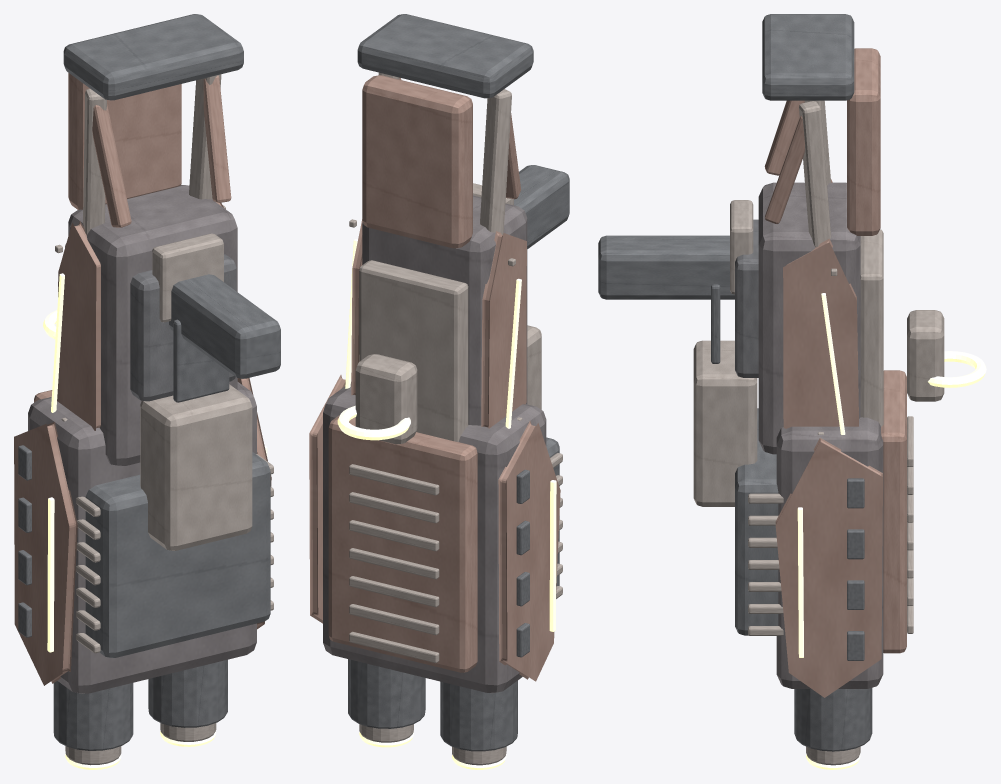
File: aether-w12-glacier.glb
3 views of the same model, side by side, from view 1: azimuth 30°, elevation 25°; view 2: azimuth 150°, elevation 25°; view 3: azimuth 270°, elevation 25° (orthographic). The views are drawn at different scales.
Visible parts, largest first — view 1: W12 / broad rugged pump sleeve, W12 / underbody plasma unit, 01 / central monocoque, W12 / heavy armor shroud, W12 / aggressive twin cheek armor -1, W12 / thick recoil pad art, W12 / rear shoulder crown, 04 / pistol grip, 06 / sculpted receiver cheek-1, 03 / matte lower receiver, W12 / twin front port -1, W12 / twin front port 1 (+10 smaller); view 2: W12 / heatshield upper armor, W12 / rear shoulder crown, 02 / receiver crown, W12 / heavy armor shroud, W12 / aggressive twin cheek armor -1, W12 / thick recoil pad art, 01 / central monocoque, 06 / sculpted receiver cheek-1, W12 / twin front port -1, W12 / chunky sight, W12 / twin front port 1, W12 / stock side truss -1 (+18 smaller); view 3: W12 / aggressive twin cheek armor 1, 06 / sculpted receiver cheek1, 01 / central monocoque, W12 / underbody plasma unit, 04 / pistol grip, W12 / thick recoil pad art, W12 / heatshield upper armor, W12 / heavy armor shroud, W12 / rear shoulder crown, W12 / broad rugged pump sleeve, W12 / twin front port 1, 02 / receiver crown (+11 smaller).
Part boxes in pixels (<box>): W12 / broad rugged pump sleeve: <box>85,452,270,657</box>; W12 / underbody plasma unit: <box>140,384,252,550</box>; 01 / central monocoque: <box>68,185,237,466</box>; W12 / heavy armor shroud: <box>28,382,256,693</box>; W12 / aggressive twin cheek armor -1: <box>14,422,77,685</box>; W12 / thick recoil pad art: <box>63,14,243,100</box>; W12 / rear shoulder crown: <box>68,73,181,209</box>; 04 / pistol grip: <box>169,274,280,378</box>; 06 / sculpted receiver cheek-1: <box>57,221,100,430</box>; 03 / matte lower receiver: <box>130,254,236,401</box>; W12 / twin front port -1: <box>53,681,133,750</box>; W12 / twin front port 1: <box>148,659,227,727</box>; W12 / heatshield upper armor: <box>328,415,477,672</box>; W12 / rear shoulder crown: <box>362,75,472,248</box>; 02 / receiver crown: <box>359,260,468,441</box>; W12 / heavy armor shroud: <box>323,382,546,693</box>; W12 / aggressive twin cheek armor -1: <box>498,420,560,681</box>; W12 / thick recoil pad art: <box>357,14,533,98</box>; 01 / central monocoque: <box>362,195,527,425</box>; 06 / sculpted receiver cheek-1: <box>481,231,526,428</box>; W12 / twin front port -1: <box>440,680,517,751</box>; W12 / chunky sight: <box>355,354,417,444</box>; W12 / twin front port 1: <box>348,659,425,728</box>; W12 / stock side truss -1: <box>480,89,511,234</box>; W12 / aggressive twin cheek armor 1: <box>775,438,882,697</box>; 06 / sculpted receiver cheek1: <box>783,238,858,428</box>; 01 / central monocoque: <box>758,182,860,454</box>; W12 / underbody plasma unit: <box>693,340,757,506</box>; 04 / pistol grip: <box>598,235,734,299</box>; W12 / thick recoil pad art: <box>762,14,854,100</box>; W12 / heatshield upper armor: <box>881,370,906,653</box>; W12 / heavy armor shroud: <box>776,417,883,688</box>; W12 / rear shoulder crown: <box>847,48,880,235</box>; W12 / broad rugged pump sleeve: <box>735,408,778,635</box>; W12 / twin front port 1: <box>794,688,872,751</box>; 02 / receiver crown: <box>860,229,883,426</box>.
Size of the model in its own units: 0.652 by 2.04 by 1.04.
7 materials, 7 textured.
